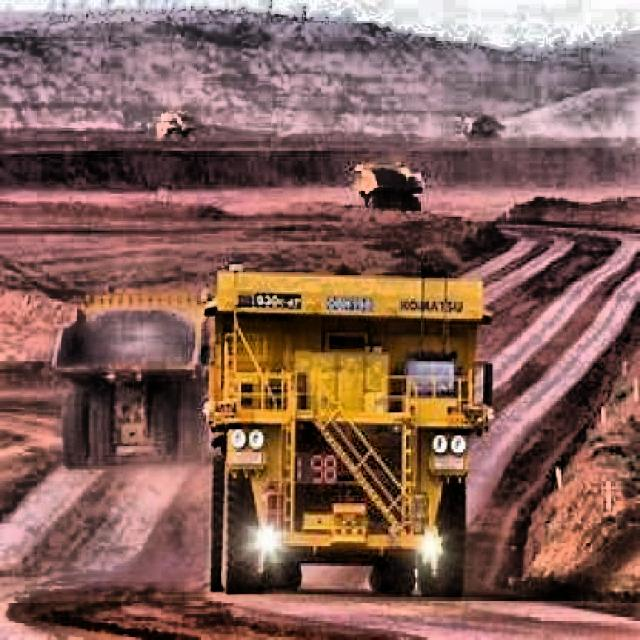dump_truck: (200, 251, 515, 601), (46, 276, 216, 492), (352, 143, 421, 223)
